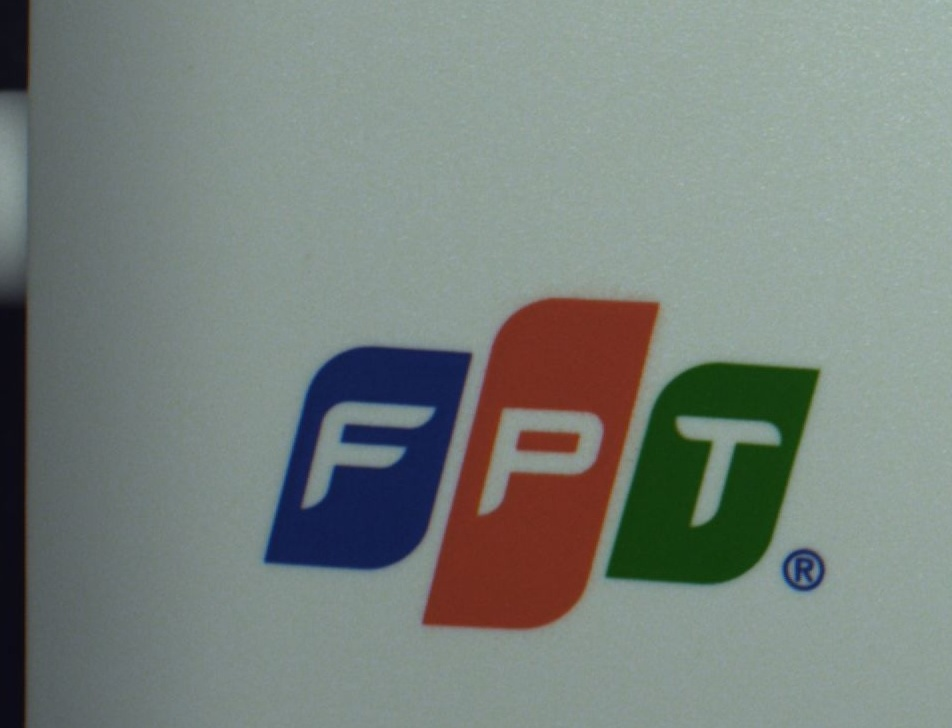BR_FPT: (225, 289, 829, 639)
